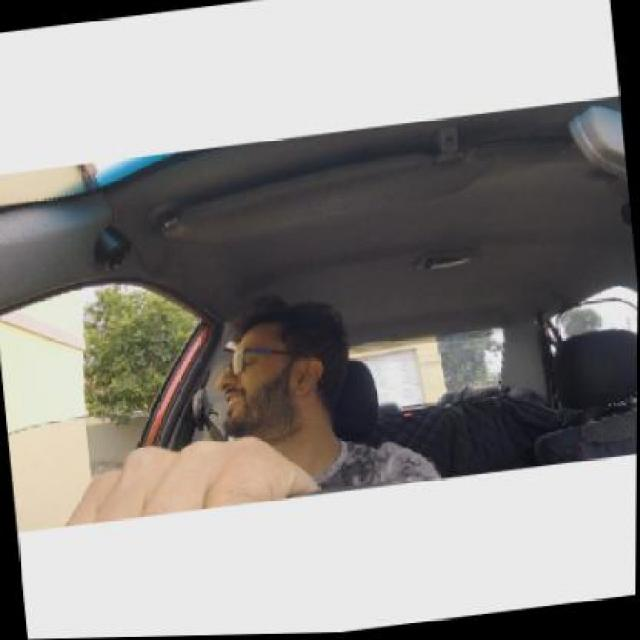LeftRight: (208, 309, 344, 435)
